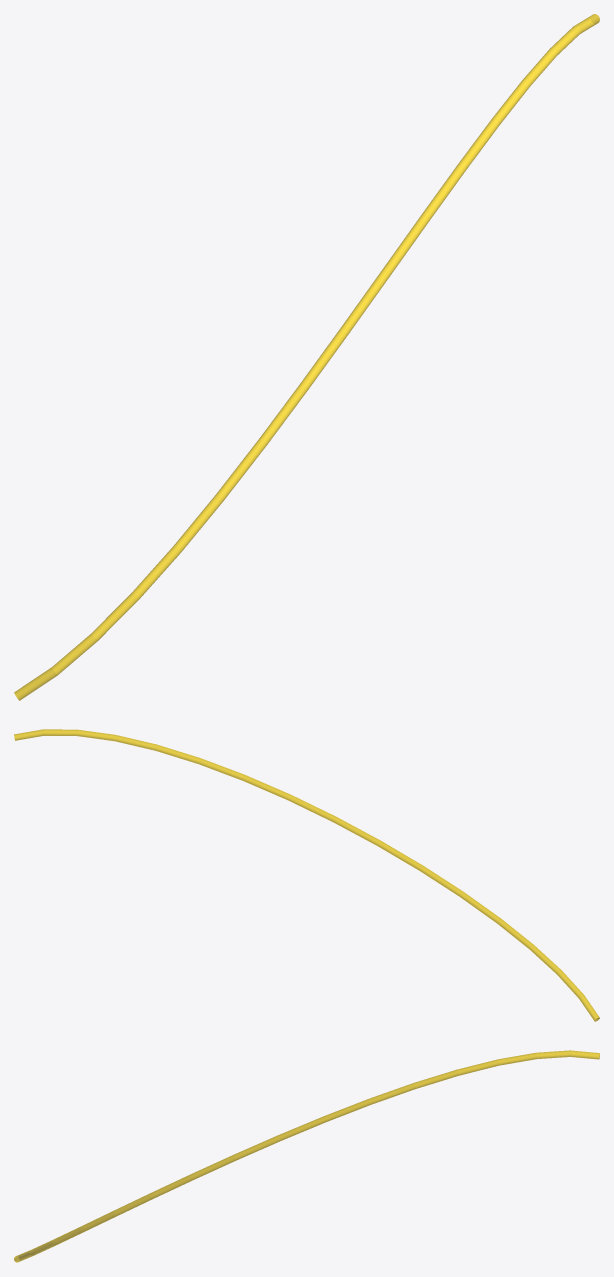
Rendered from Event_100608114_track_122.fbx.
3 views of the same model, one above another, from view 1: azimuth 30°, elevation 25°; view 2: azimuth 150°, elevation 25°; view 3: azimuth 330°, elevation 25° (orthographic). The views are drawn at different scales.
Parts seen in each view (by area): view 1: Model; view 2: Model; view 3: Model.
Boxes of the visible parts, <box> form: Model: <box>14,14,599,700</box>; Model: <box>14,729,599,1021</box>; Model: <box>14,1050,599,1262</box>.
Bounding box in the file's own units: 3.39 × 1.7 × 1.4.
